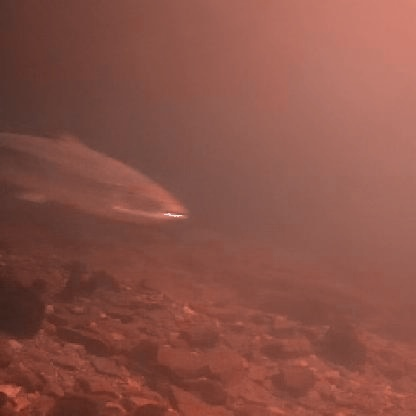salmon: (0, 126, 195, 228)
